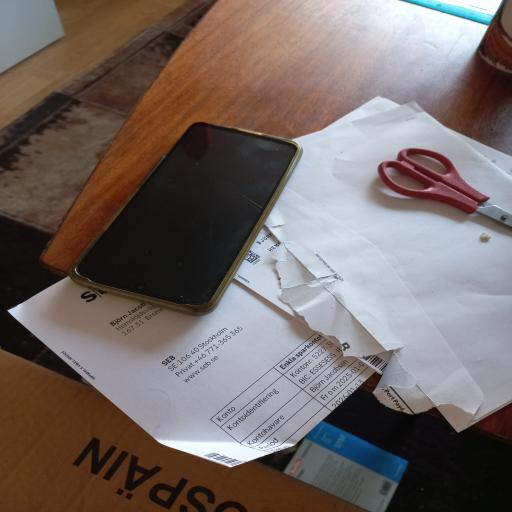phone: (70, 123, 301, 314)
